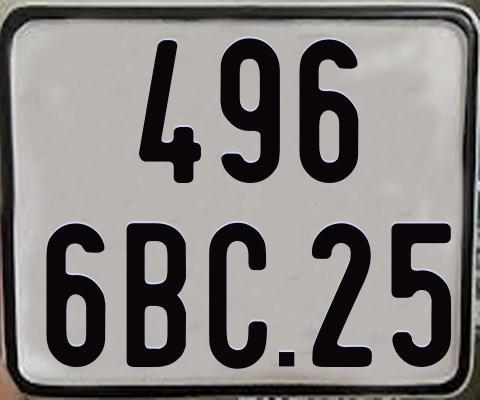2: (312, 222, 375, 366)
4: (138, 38, 201, 187)
5: (391, 221, 452, 370)
6: (44, 222, 104, 371), (299, 37, 359, 185)
9: (219, 38, 281, 185)
B: (124, 222, 187, 372)
C: (208, 223, 267, 372)
